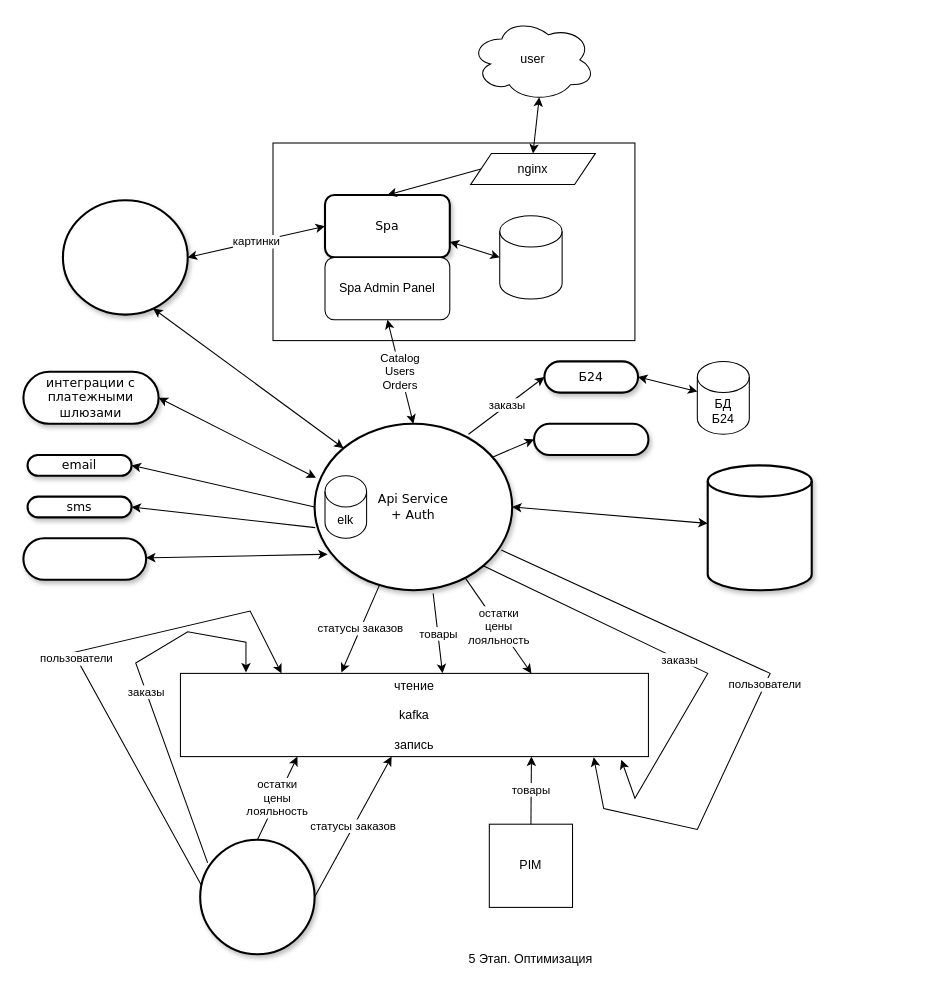
This 933x993 diagram has some shape labels left out. The centre of each missing label's shape, as x and y in pixels:
"1C askona.kz" goes at point (257, 898).
"Media Service ? (askona.kz)" goes at point (125, 258).
"redis session storаge" goes at point (530, 257).
"БД Api Service" goes at point (760, 529).
"сервис поиска по сайту" goes at point (85, 560).
"сторонние сервисы" goes at point (591, 440).
